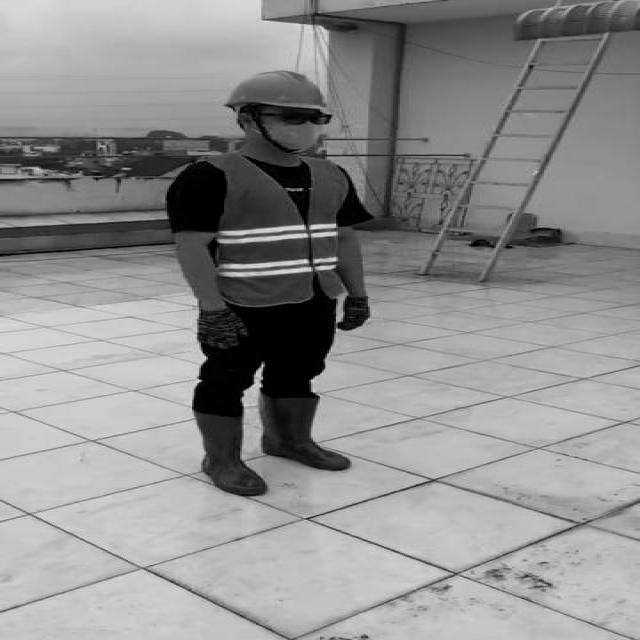boots: (260, 396, 358, 469), (190, 410, 268, 497)
face_mask: (259, 110, 337, 149)
glasses: (276, 108, 338, 129)
hand_glove: (194, 307, 252, 352), (330, 294, 370, 331)
head_helmet: (222, 67, 340, 112)
person: (157, 65, 385, 501)
vest: (187, 150, 357, 307)
